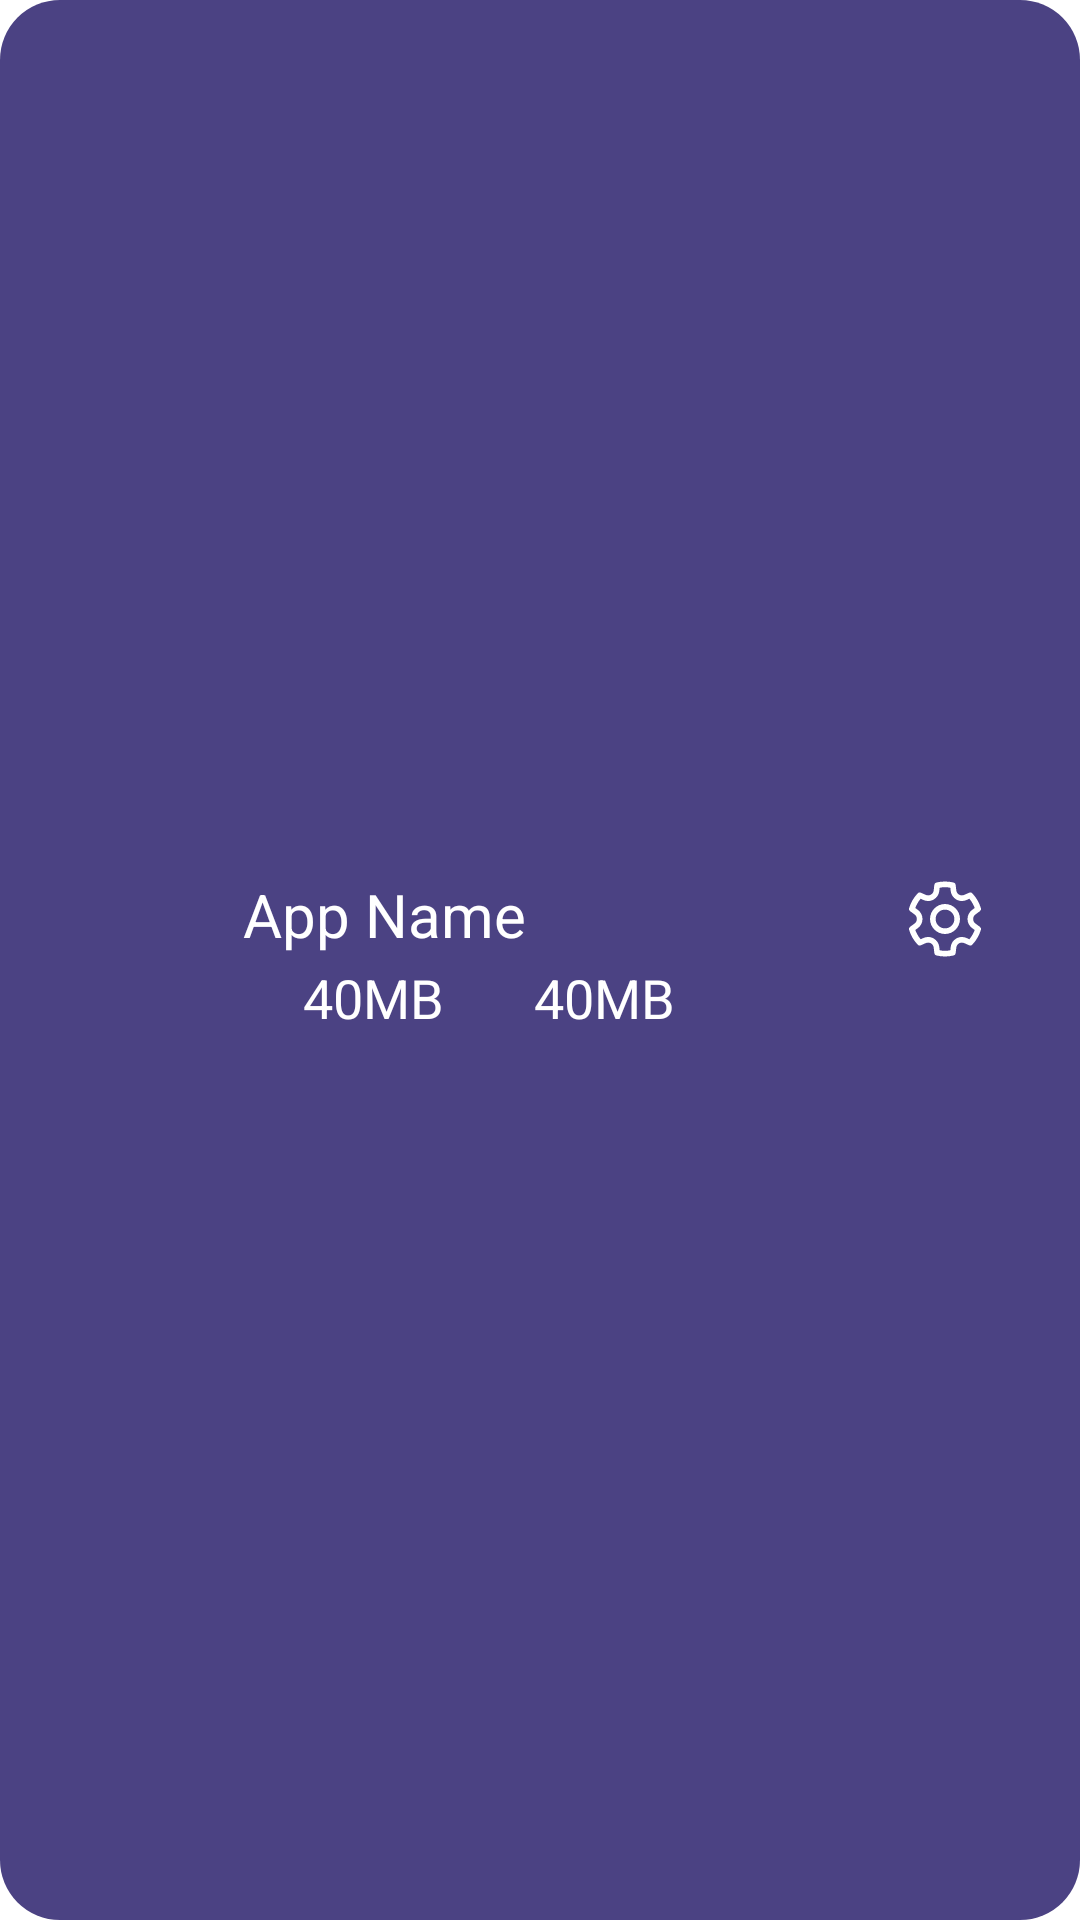

Icon click points for this 1080 × 1920 phone screenshot, format (x=x, y=y):
settings: (x=945, y=919)
